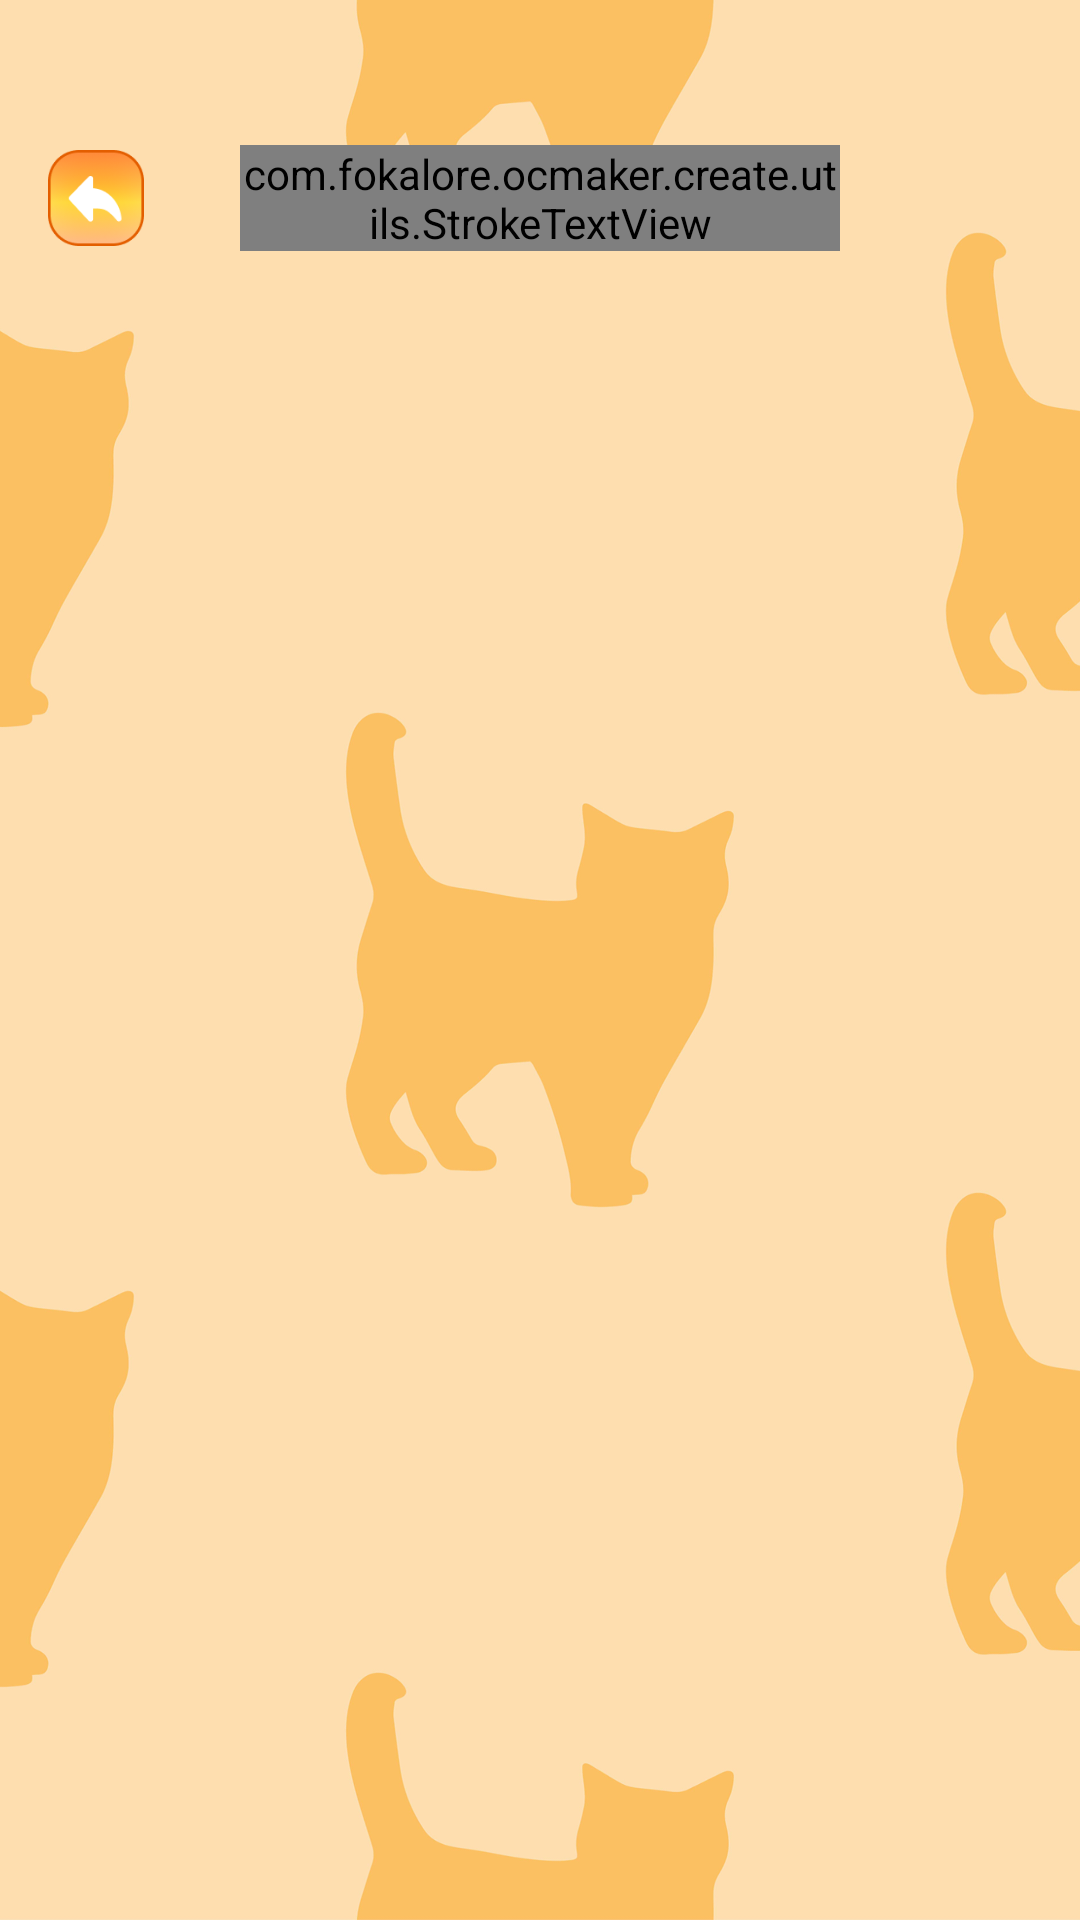

Point at icon controls on the screen. Image size 1080px×1920px, points as [x,y].
back app: [96,198]
